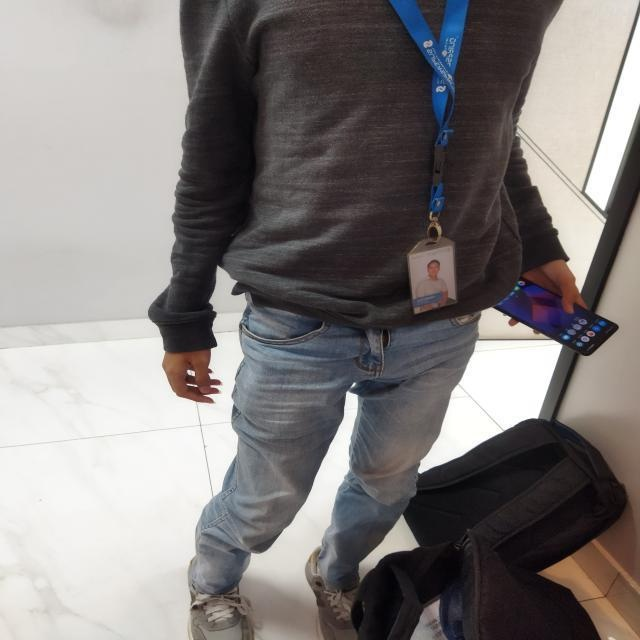ID_card: (405, 4, 465, 314)
